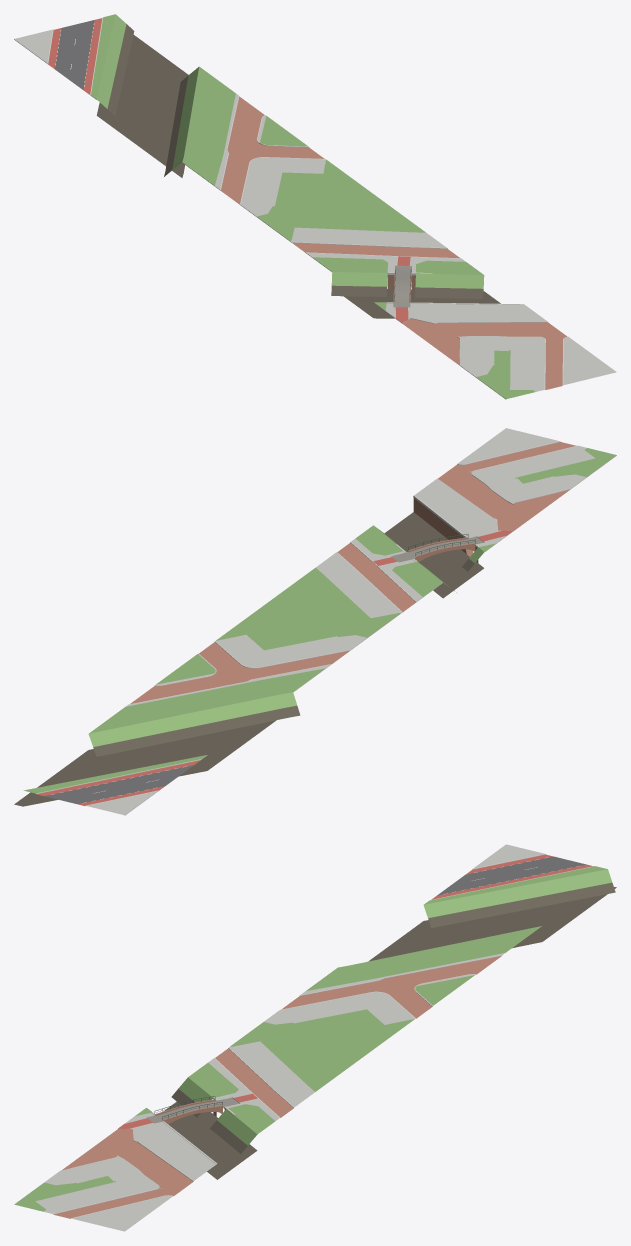
The model's file is ground_3_7.glb.
3 views of the same model, one above another, from view 1: azimuth 30°, elevation 25°; view 2: azimuth 150°, elevation 25°; view 3: azimuth 330°, elevation 25° (orthographic).
Visible parts, largest first — view 1: ground_3_7; view 2: ground_3_7; view 3: ground_3_7.
Boxes of the visible parts, <box> form: ground_3_7: <box>14,14,616,399</box>; ground_3_7: <box>14,428,616,815</box>; ground_3_7: <box>14,844,616,1231</box>.
Bounding box in the file's own units: 30.02 × 5.17 × 200.
